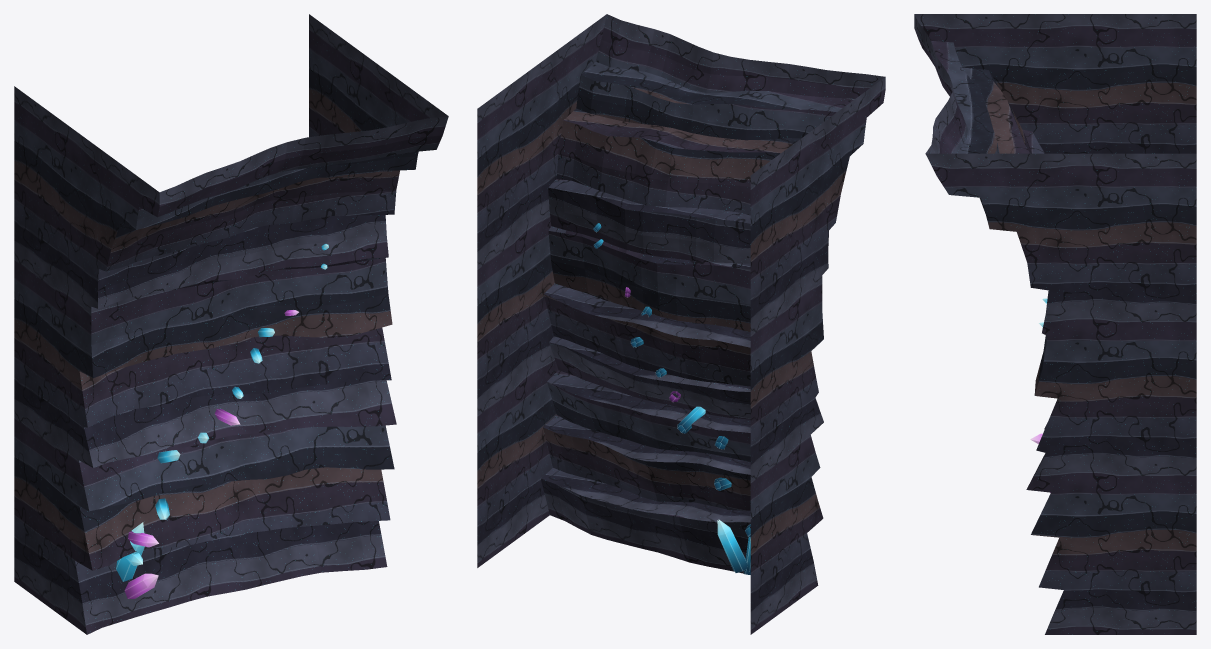
File: cave_wall_vein.glb
3 views of the same model, side by side, from view 1: azimuth 30°, elevation 25°; view 2: azimuth 150°, elevation 25°; view 3: azimuth 270°, elevation 25° (orthographic). The views are drawn at different scales.
Parts seen in each view (by area): view 1: cave_wall_vein; view 2: cave_wall_vein; view 3: cave_wall_vein.
Boxes of the visible parts, box(x1,y1,x2,y2) form: cave_wall_vein: box(14, 14, 448, 634); cave_wall_vein: box(477, 14, 885, 634); cave_wall_vein: box(914, 14, 1196, 634).
Size of the model in its own units: 7.8 by 12.53 by 6.66.
Materials: 3 (3 with a texture image).
